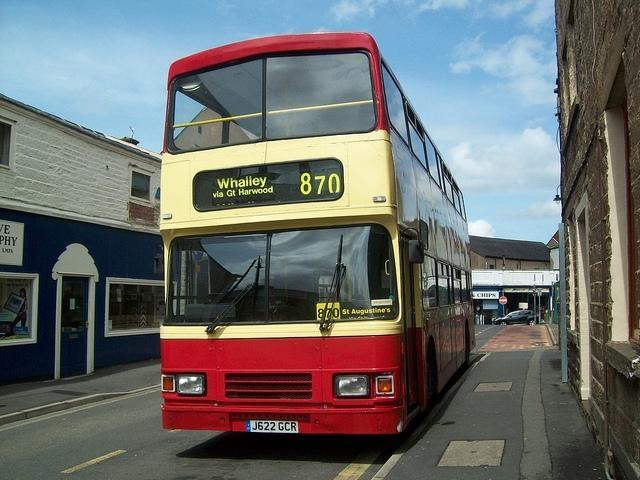bus: (158, 32, 476, 433)
car: (492, 311, 540, 326)
